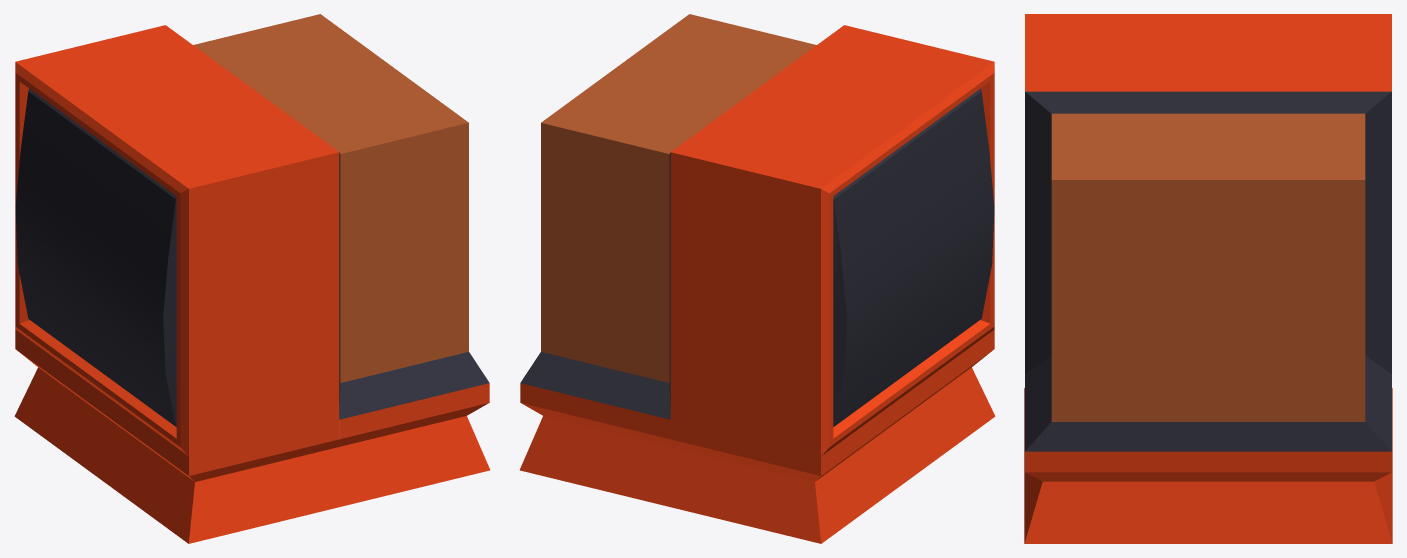
File: ComputerOutside.fbx
3 views of the same model, side by side, from view 1: azimuth 30°, elevation 25°; view 2: azimuth 150°, elevation 25°; view 3: azimuth 270°, elevation 25° (orthographic). The views are drawn at different scales.
Parts seen in each view (by area): view 1: ComputerOutside; view 2: ComputerOutside; view 3: ComputerOutside.
Boxes of the visible parts, x1=… form: ComputerOutside: x1=14, y1=14, x2=489, y2=543; ComputerOutside: x1=520, y1=14, x2=995, y2=543; ComputerOutside: x1=1024, y1=14, x2=1392, y2=543.
Size of the model in its own units: 0.4413 by 0.4763 by 0.424.
